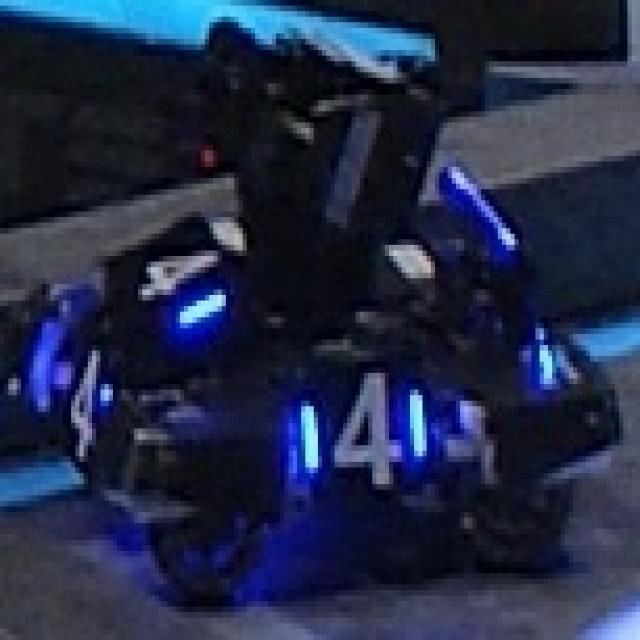B4: (297, 356, 427, 495), (125, 212, 242, 340), (46, 334, 134, 467)
